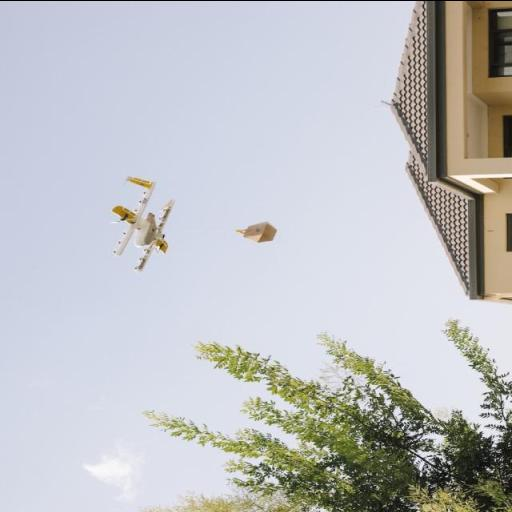uav: (105, 168, 181, 274)
